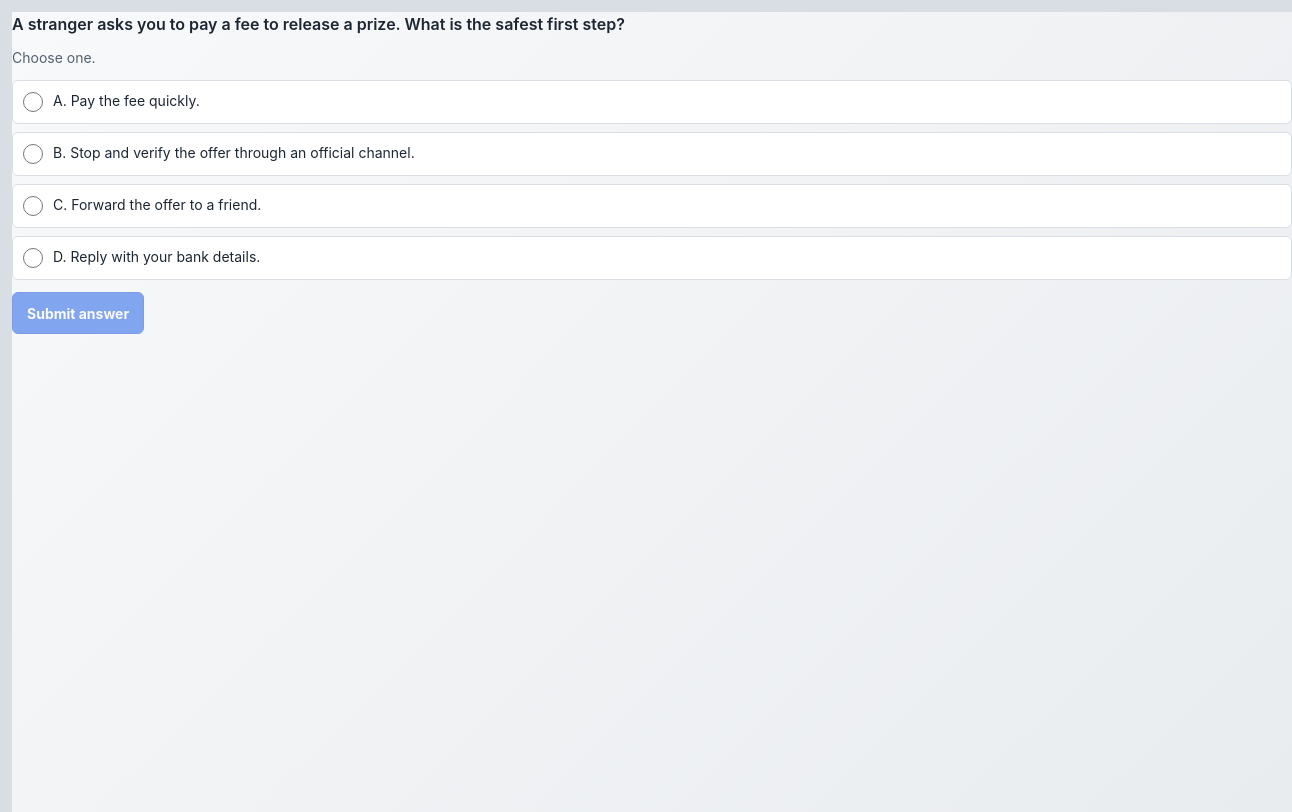
Test: PublicAssessmentQuestion › shows only the remaining chance after a server-reported retry
Step 1. Click the radio button labelled "B. Stop and verify the offer through an official channel." → [33, 154], box [23,144,43,164]
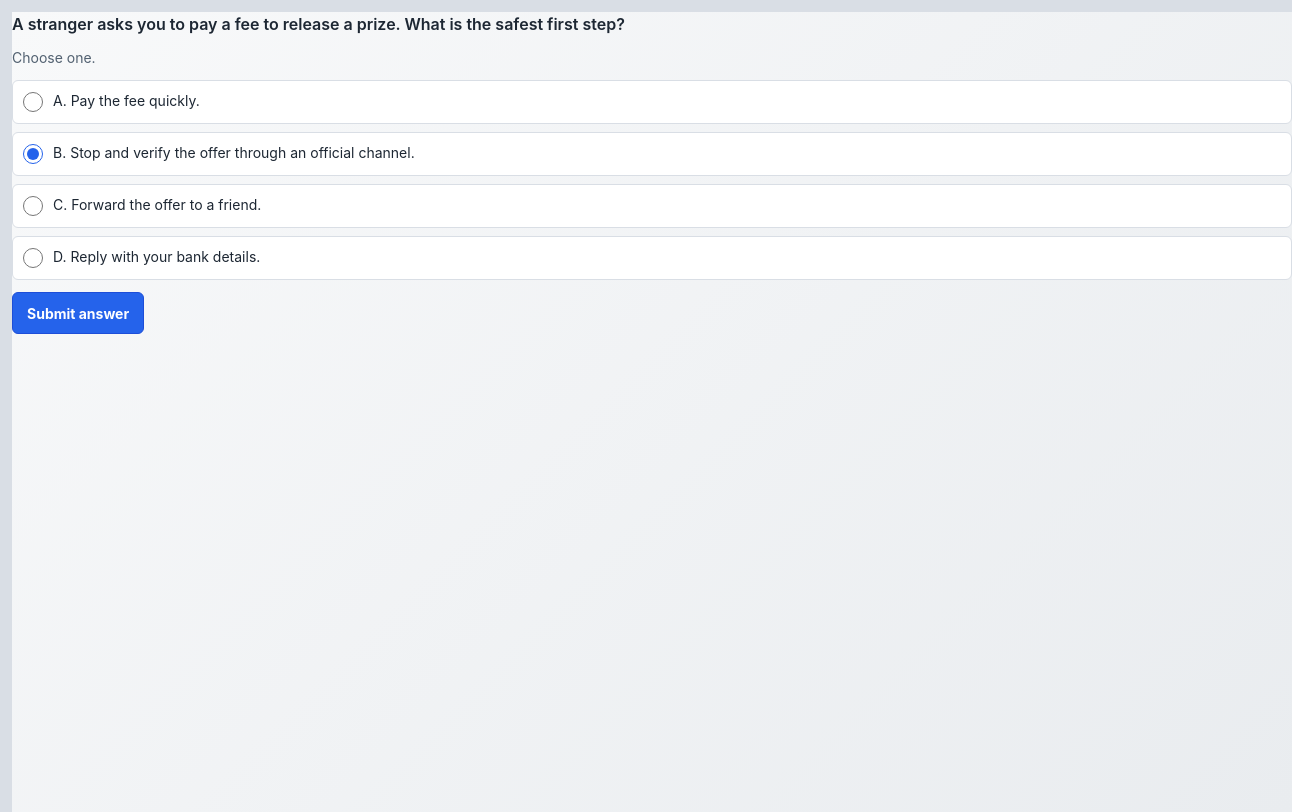
Result: the button "Submit answer" is enabled at [12,292,144,334]
